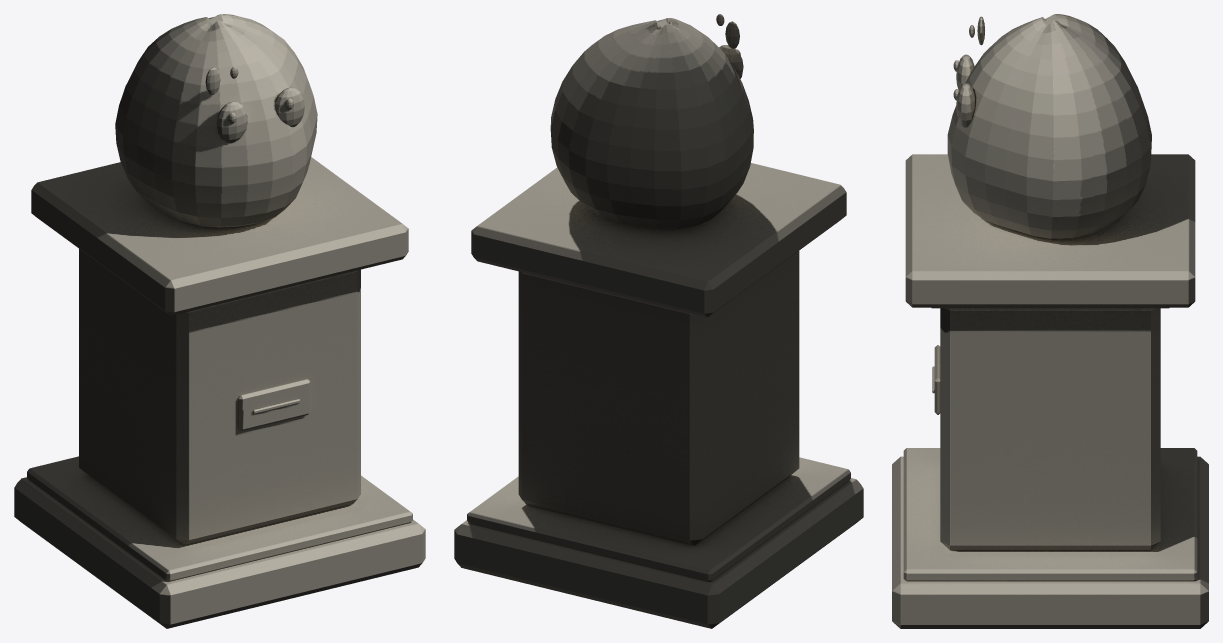
File: 0-20261016-1900-ev023-r04-mockup-slimeartplinth_baked.glb
3 renders of one model, left to right at view 1: azimuth 30°, elevation 25°; view 2: azimuth 150°, elevation 25°; view 3: azimuth 270°, elevation 25°, orthographic. The views are drawn at different scales.
Parts seen in each view (by area): view 1: SW_Showroom_SlimeArtPlinth; view 2: SW_Showroom_SlimeArtPlinth; view 3: SW_Showroom_SlimeArtPlinth.
Part boxes in pixels (x1,y1,x2,y2): SW_Showroom_SlimeArtPlinth: (14, 14, 425, 628); SW_Showroom_SlimeArtPlinth: (454, 14, 863, 628); SW_Showroom_SlimeArtPlinth: (892, 14, 1208, 628).
Bounding box in the file's own units: 0.82 × 1.56 × 0.82.
1 material, 1 textured.
